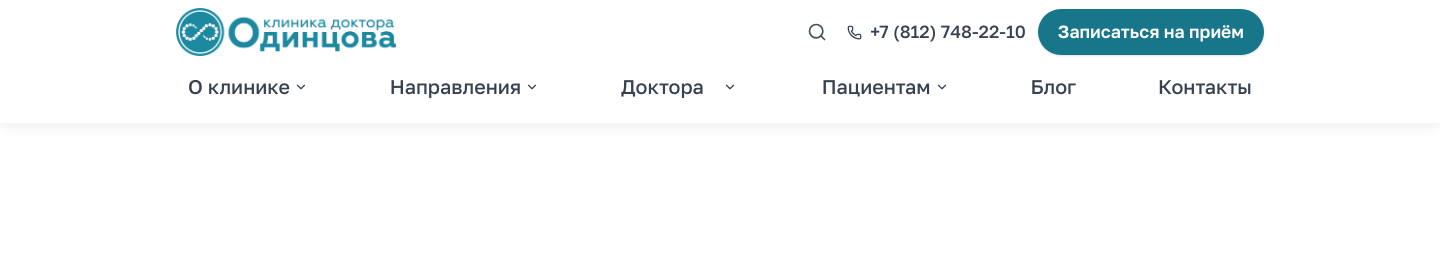
it: Header › opens the desktop doctors menu with a separate accessible control
Click the button named "показать подразделы: доктора". click: (730, 87)
box: [708, 65, 752, 109]
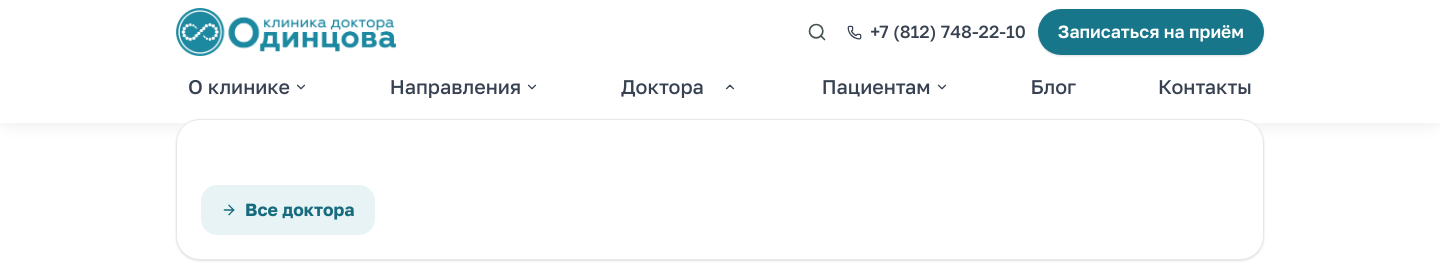
expect the menu "Все доктора" is shown: met, box [176, 119, 1264, 260]
